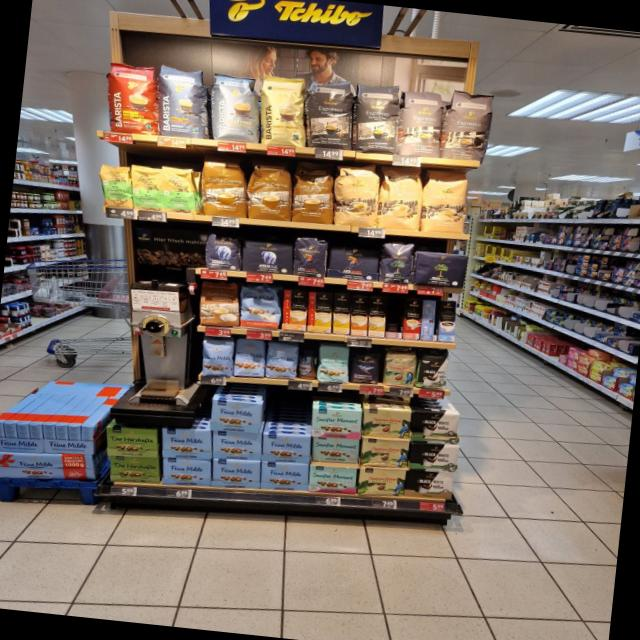AB Bohne: (204, 231, 243, 271)
AB Gemahlen: (241, 240, 294, 276)
Athiopien Bohne: (98, 163, 134, 210)
Athiopien Gemahlen: (162, 164, 197, 215), (130, 163, 163, 212)
BM Bohne: (377, 240, 416, 286)
BM Gemahlen: (412, 250, 468, 289)
BW Bohne: (416, 353, 450, 390)
BW Gemahlen: (410, 408, 461, 446), (408, 442, 461, 474), (404, 469, 455, 501)
Barista CB: (261, 74, 307, 147)
Barista CC: (207, 72, 264, 142)
Barista Espresso: (152, 64, 214, 140)
Barista Kolumbien: (107, 60, 160, 135)
C Fino Bohne: (350, 346, 382, 385)
CC Mild: (420, 168, 471, 235), (332, 163, 382, 228), (376, 166, 425, 232)
CC Vollmundig: (196, 279, 242, 328)
CC Vollmundig 36 Pads: (197, 158, 250, 218), (244, 162, 295, 222), (290, 167, 336, 224)
Colombia BB Bohne: (382, 350, 418, 388)
Colombia BB Gemahlen: (359, 436, 410, 470), (361, 406, 412, 440), (356, 466, 406, 499)
Empty Shelf: (384, 296, 404, 332)
Espresso Aromatisch: (440, 89, 496, 162), (397, 88, 445, 159)
Espresso S Art: (306, 77, 356, 151), (353, 81, 401, 154)
FM 36 Pads: (238, 282, 283, 330)
FM Bohne: (199, 337, 235, 379), (232, 337, 268, 378), (264, 340, 299, 380)
FM Gemahlen: (159, 425, 214, 461), (208, 456, 262, 492), (209, 398, 262, 433), (258, 459, 310, 494), (260, 430, 312, 465), (210, 429, 263, 462), (160, 456, 212, 489)
FM Instant: (296, 350, 318, 380)
Herzhatfe Mundig: (102, 424, 161, 459), (107, 454, 163, 486)
LG Bohne: (291, 235, 329, 278)
LG Gemahlen: (326, 239, 382, 282)
SM Bohne: (314, 342, 352, 384)
SM Gemahlen: (309, 406, 363, 440), (310, 436, 360, 465)
Simo CCMild: (307, 291, 333, 333)
Simo CCMild bigpack: (332, 293, 351, 334)
Simo CCVollmundig: (282, 289, 307, 330)
Simo CCVollmundig bigpack: (350, 294, 369, 336)
Simo Decaff: (368, 296, 386, 337)
Simo Es Brazil: (402, 298, 422, 339)
Simo Es Vanilla: (438, 299, 457, 341)
